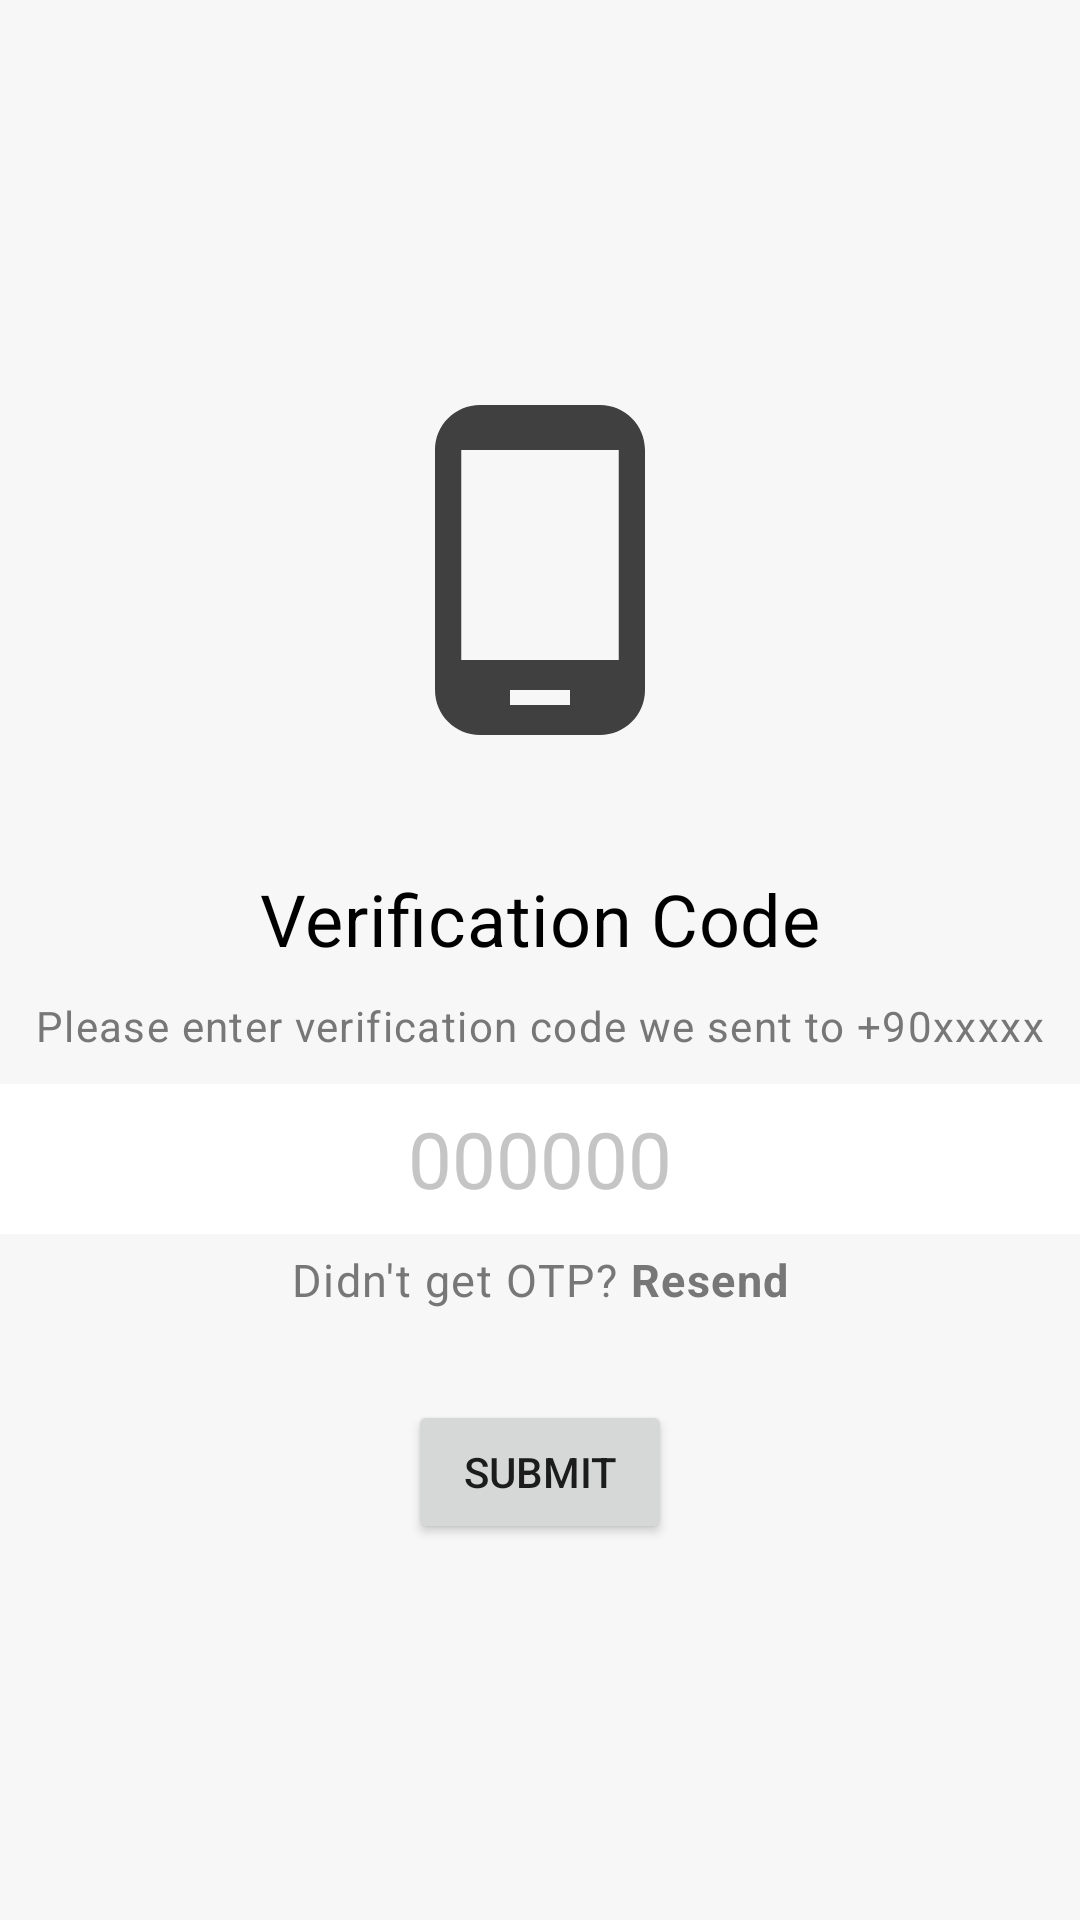

Icons on this 1080*1920 Android screen, each with its box as (x1, y1, x2, y2):
phone android: (435, 405, 645, 735)
